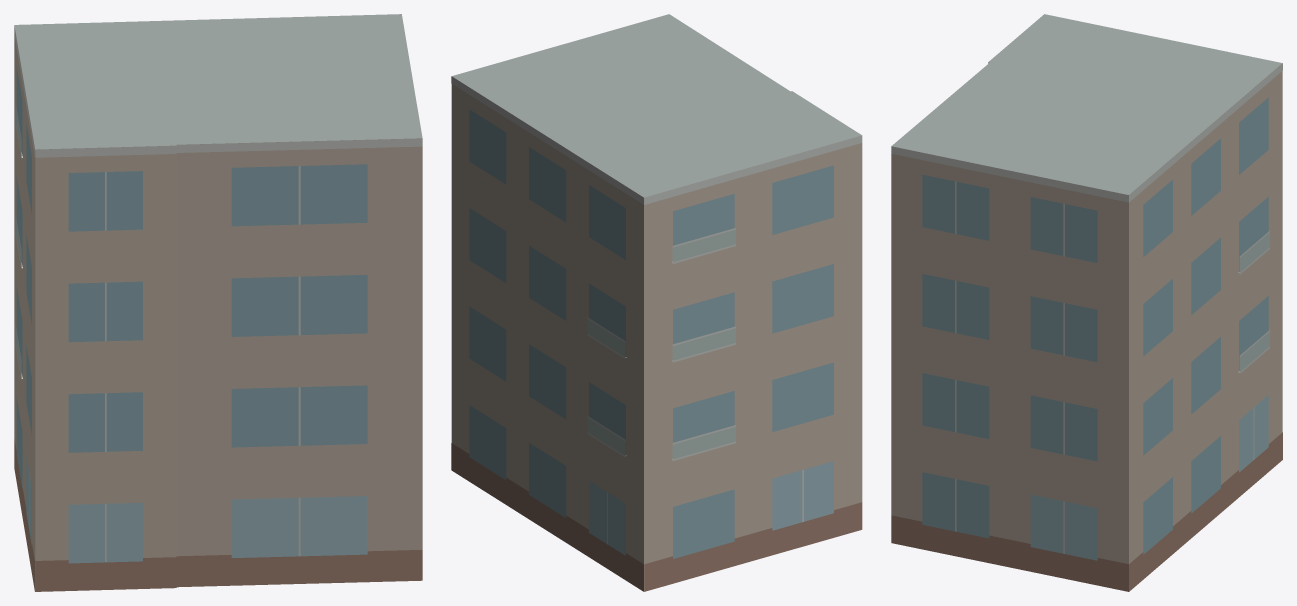
The model's file is survey-upis-32536587.glb.
3 views of the same model, side by side, from view 1: azimuth 30°, elevation 25°; view 2: azimuth 150°, elevation 25°; view 3: azimuth 270°, elevation 25° (orthographic). The views are drawn at different scales.
Parts seen in each view (by area): view 1: survey-upis-32536587.tmp; view 2: survey-upis-32536587.tmp; view 3: survey-upis-32536587.tmp.
Part boxes in pixels (box(x1,y1,x2,y2)): survey-upis-32536587.tmp: box(14, 14, 422, 591); survey-upis-32536587.tmp: box(451, 14, 862, 591); survey-upis-32536587.tmp: box(891, 14, 1282, 591).
Size of the model in its own units: 12.74 by 13 by 11.63.
